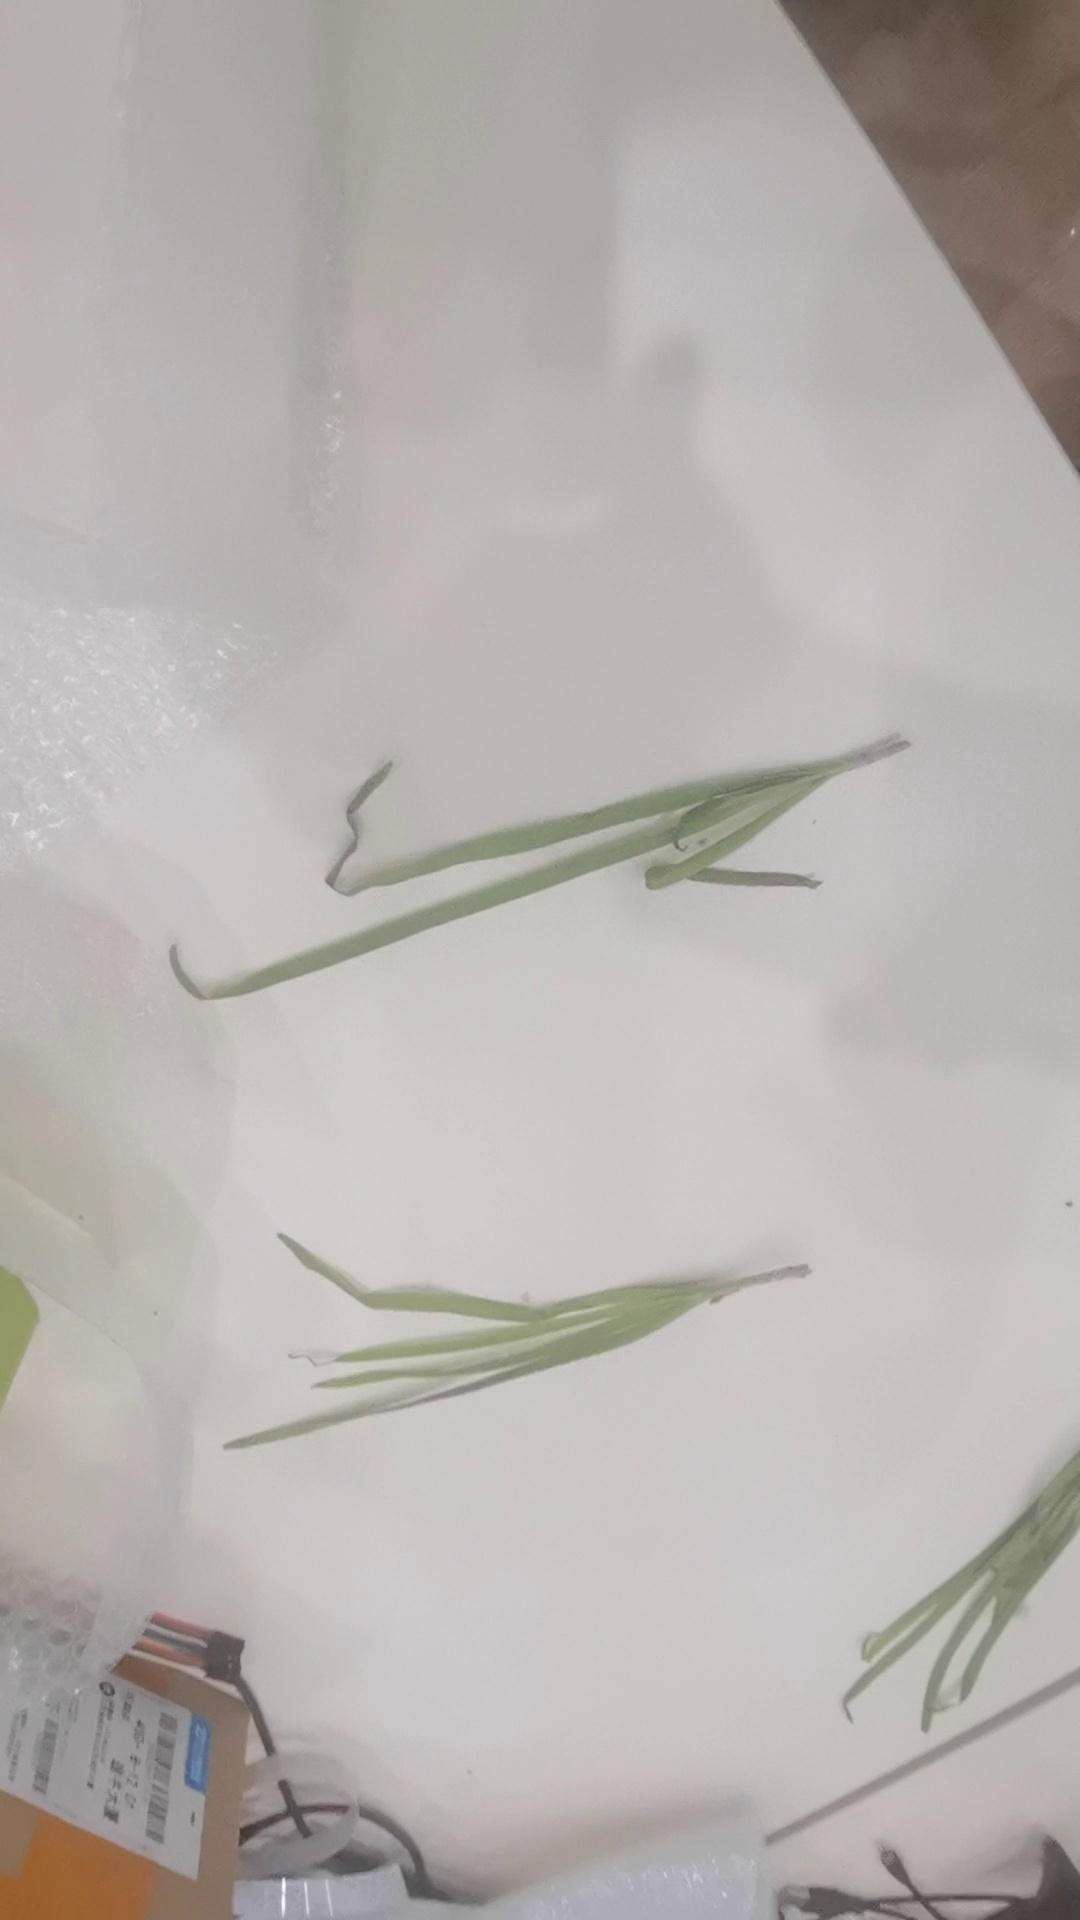chives: (136, 743, 906, 988), (167, 1194, 853, 1443)
